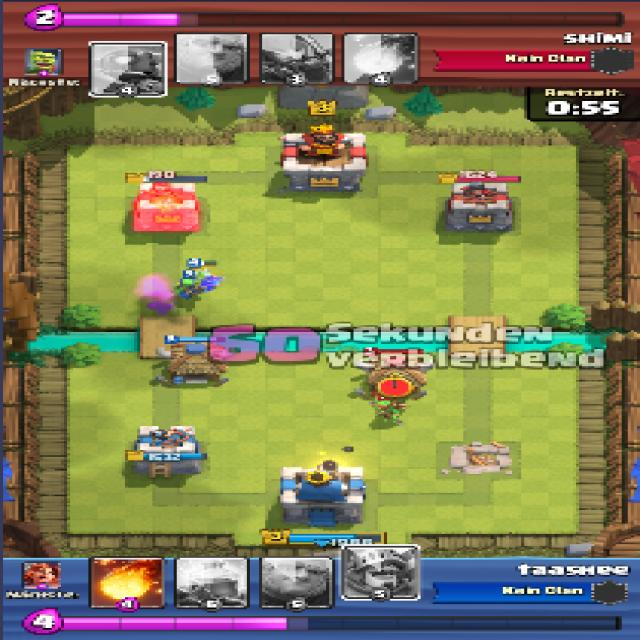Enemy-GoblinHut: (348, 356, 436, 396)
Enemy-SpearGoblin: (367, 399, 407, 423)
Player-GoblinHut: (153, 344, 239, 386)
Player-SpearGoblin: (174, 279, 204, 300), (188, 270, 221, 289)
